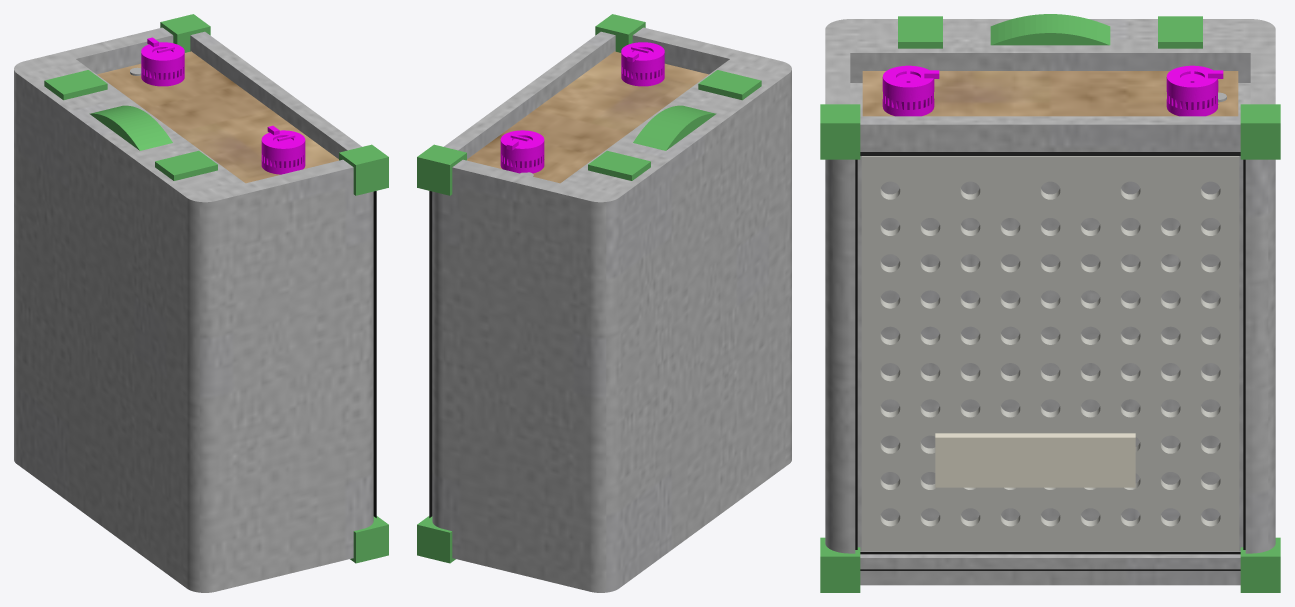
File: Music_Amplifier__0000.glb
3 renders of one model, left to right at view 1: azimuth 30°, elevation 25°; view 2: azimuth 150°, elevation 25°; view 3: azimuth 270°, elevation 25°, orthographic. The views are drawn at different scales.
Visible parts, largest first — view 1: body::cabinet, body::gold_panel, body::handle, knob_1::knob_1, knob_0::knob_0, body::corner_cap_0_1, body::piping_v_1, body::corner_cap_0_0, body::corner_cap_1_1; view 2: body::cabinet, body::gold_panel, body::handle, knob_0::knob_0, knob_1::knob_1, body::corner_cap_1_1, body::piping_v_0, body::corner_cap_1_0, body::corner_cap_0_1; view 3: body::speaker_grille, body::cabinet, body::gold_panel, body::marshall_logo, body::handle, knob_0::knob_0, knob_1::knob_1, body::corner_cap_0_1, body::corner_cap_1_1, body::piping_h_1, body::corner_cap_0_0, body::corner_cap_1_0 (+3 smaller).
Part boxes in pixels (x1=…): body::cabinet: x1=14, y1=27, x2=373, y2=592; body::gold_panel: x1=97, y1=51, x2=338, y2=183; body::handle: x1=44, y1=70, x2=217, y2=180; knob_1::knob_1: x1=141, y1=37, x2=184, y2=86; knob_0::knob_0: x1=261, y1=125, x2=305, y2=174; body::corner_cap_0_1: x1=339, y1=144, x2=388, y2=195; body::piping_v_1: x1=373, y1=191, x2=376, y2=517; body::corner_cap_0_0: x1=350, y1=516, x2=388, y2=563; body::corner_cap_1_1: x1=160, y1=14, x2=210, y2=52; body::cabinet: x1=432, y1=27, x2=791, y2=592; body::gold_panel: x1=467, y1=51, x2=708, y2=183; body::handle: x1=588, y1=70, x2=761, y2=180; knob_0::knob_0: x1=621, y1=42, x2=664, y2=86; knob_1::knob_1: x1=500, y1=130, x2=544, y2=173; body::corner_cap_1_1: x1=417, y1=144, x2=466, y2=195; body::piping_v_0: x1=429, y1=191, x2=432, y2=517; body::corner_cap_1_0: x1=417, y1=516, x2=455, y2=563; body::corner_cap_0_1: x1=595, y1=14, x2=645, y2=52; body::speaker_grille: x1=861, y1=156, x2=1239, y2=551; body::cabinet: x1=825, y1=19, x2=1275, y2=585; body::gold_panel: x1=862, y1=71, x2=1238, y2=116; body::marshall_logo: x1=935, y1=433, x2=1135, y2=487; body::handle: x1=898, y1=14, x2=1202, y2=48; knob_0::knob_0: x1=882, y1=65, x2=939, y2=116; knob_1::knob_1: x1=1166, y1=65, x2=1223, y2=116; body::corner_cap_0_1: x1=820, y1=104, x2=860, y2=159; body::corner_cap_1_1: x1=1240, y1=104, x2=1280, y2=159; body::piping_h_1: x1=860, y1=552, x2=1240, y2=570; body::corner_cap_0_0: x1=820, y1=537, x2=860, y2=592; body::corner_cap_1_0: x1=1240, y1=537, x2=1280, y2=592.
Size of the model in its own units: 0.1051 by 0.2167 by 0.1877.
Materials: 8 (3 with a texture image).
